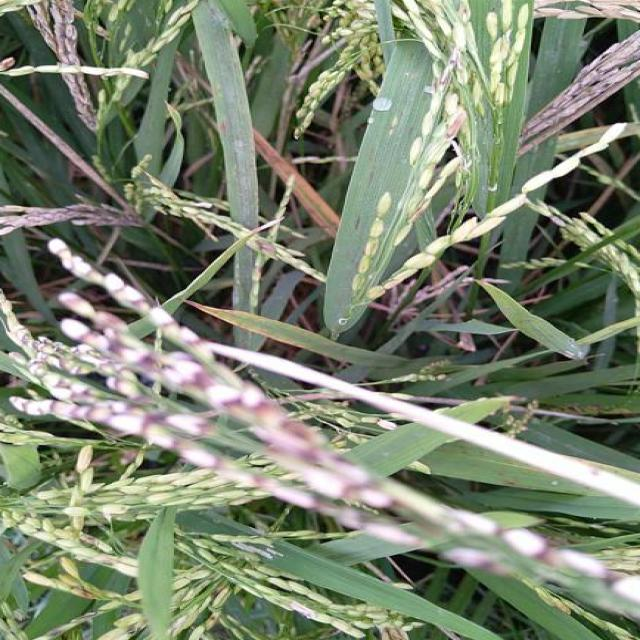Panicle Blight: (59, 292, 392, 508), (16, 398, 366, 530), (47, 239, 215, 365), (9, 352, 209, 436), (9, 313, 155, 399), (493, 528, 562, 568), (444, 548, 516, 574), (40, 611, 97, 639), (602, 569, 640, 604), (438, 45, 460, 92), (445, 105, 466, 144), (78, 533, 115, 555), (407, 193, 432, 225), (71, 588, 97, 600), (257, 241, 274, 256), (0, 56, 16, 71), (459, 0, 470, 21), (77, 588, 96, 600), (211, 582, 226, 597), (205, 612, 217, 630), (255, 260, 264, 280), (630, 568, 640, 576)
